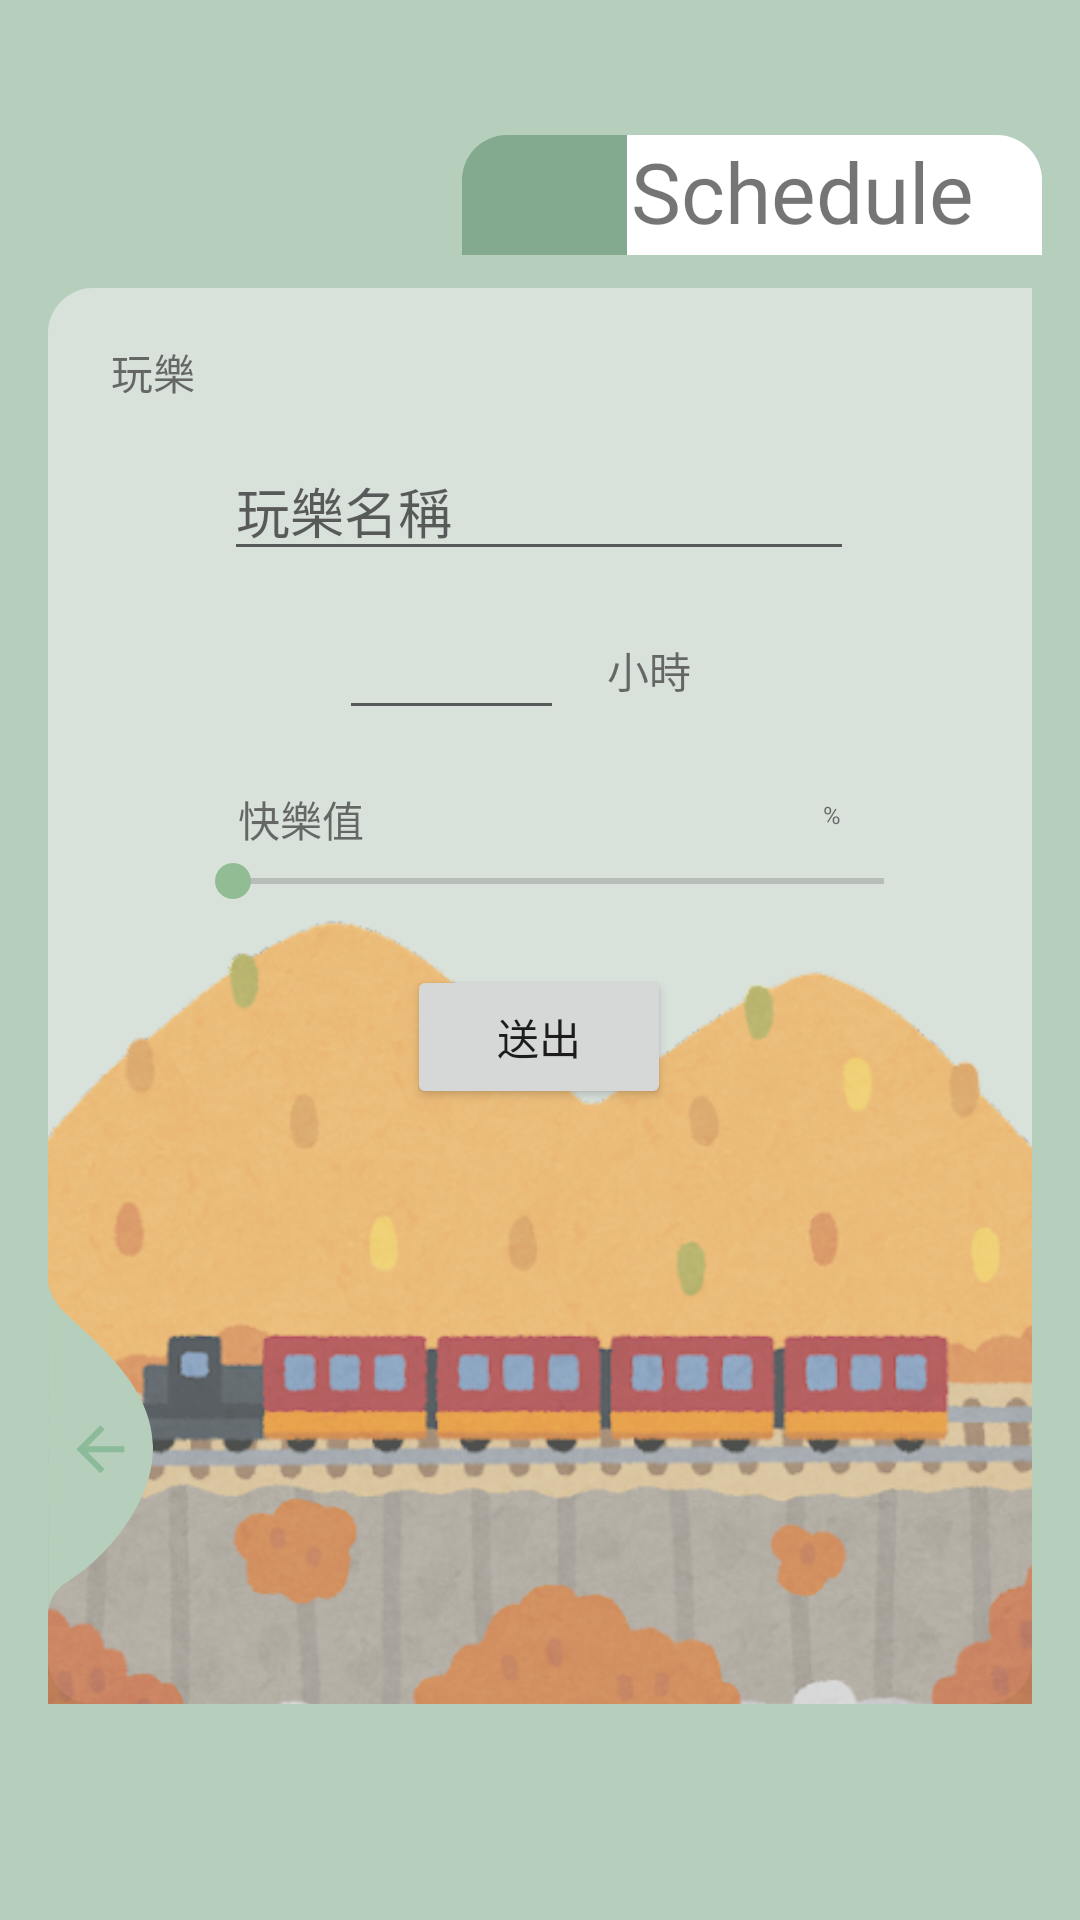

Screen size 1080 × 1920. Icon name, then its center in pixels as (x=x, y=y):
back: (x=100, y=1449)
